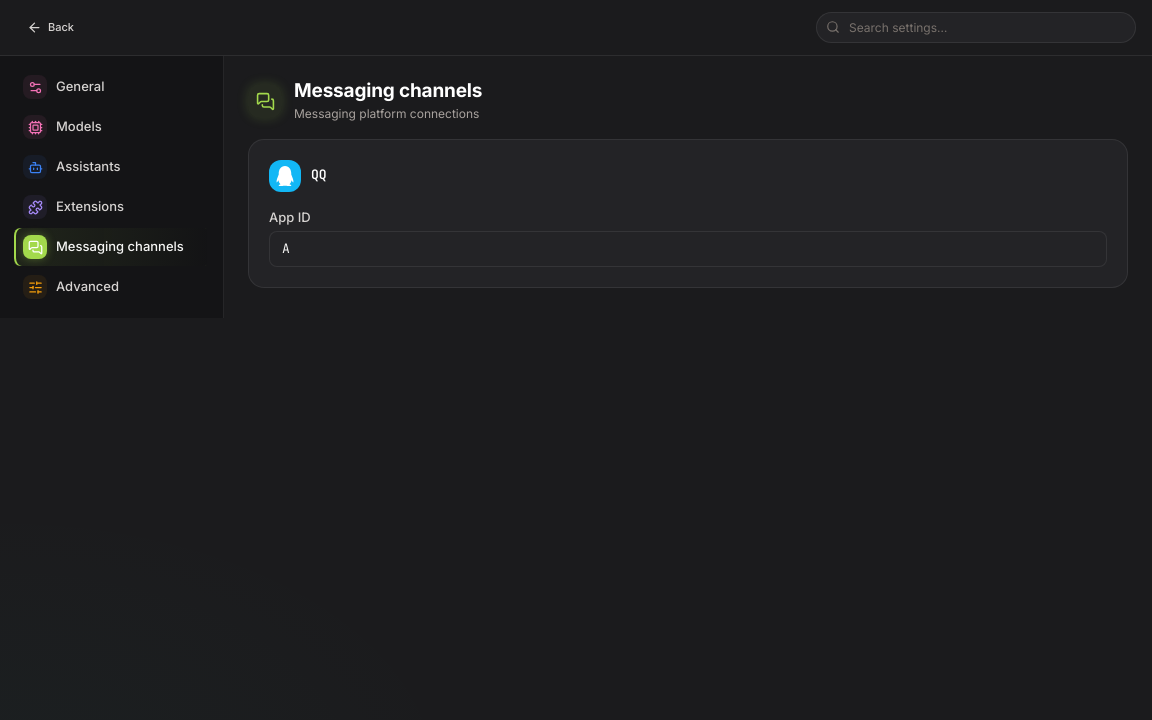
Test: SettingsPage dirty guard › leaving a dirty editor prompts; discard proceeds and reverts the field
This screenshot has width=1152, height=720.
Note: Start on the im (channels) section so the persisted editor mounts.
Step 1. Replace the text in the field showing "A" with "B" → (688, 249), box [269,231,1107,267]
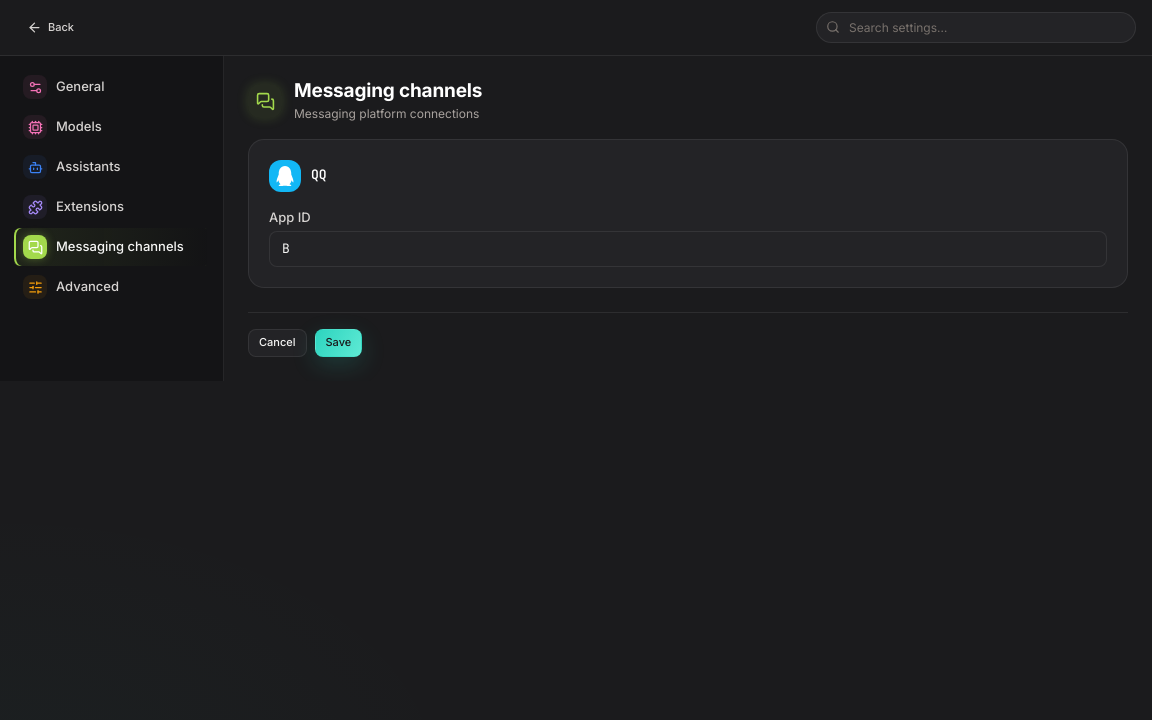
Step 2. Click the button "Back" → (50, 28), box [16,14,85,42]
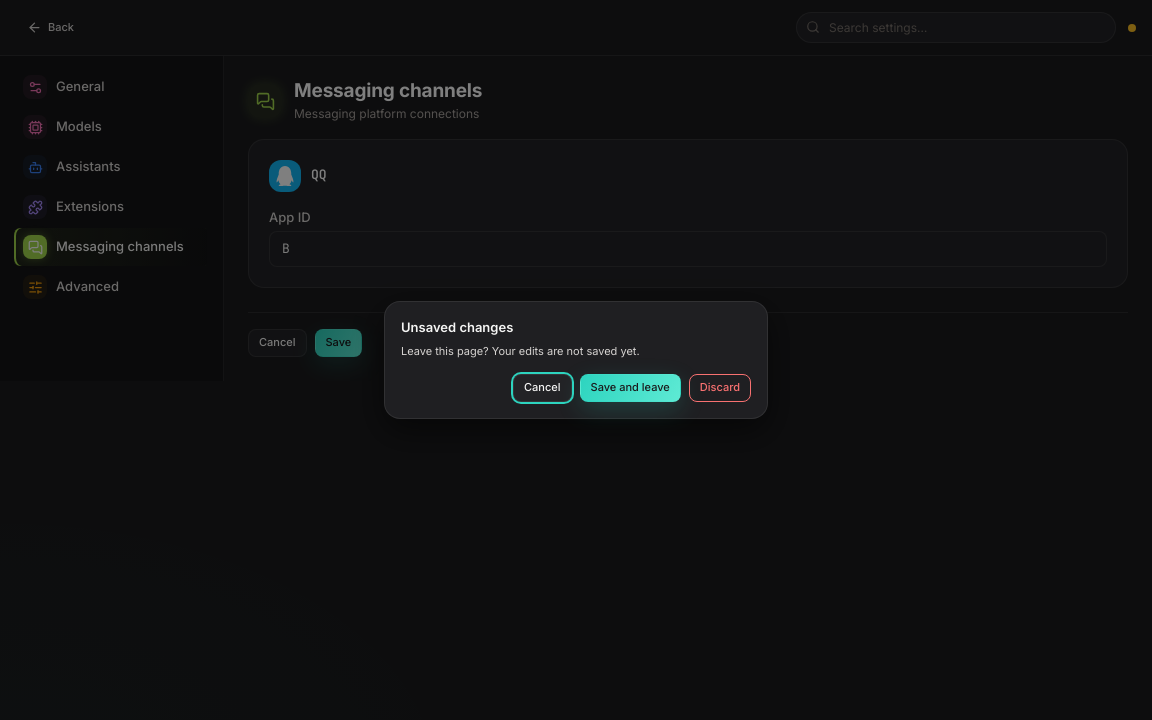
Expected: the dialog is shown
Step 3. Click the button "Discard" → (720, 388), box [689,374,751,402]
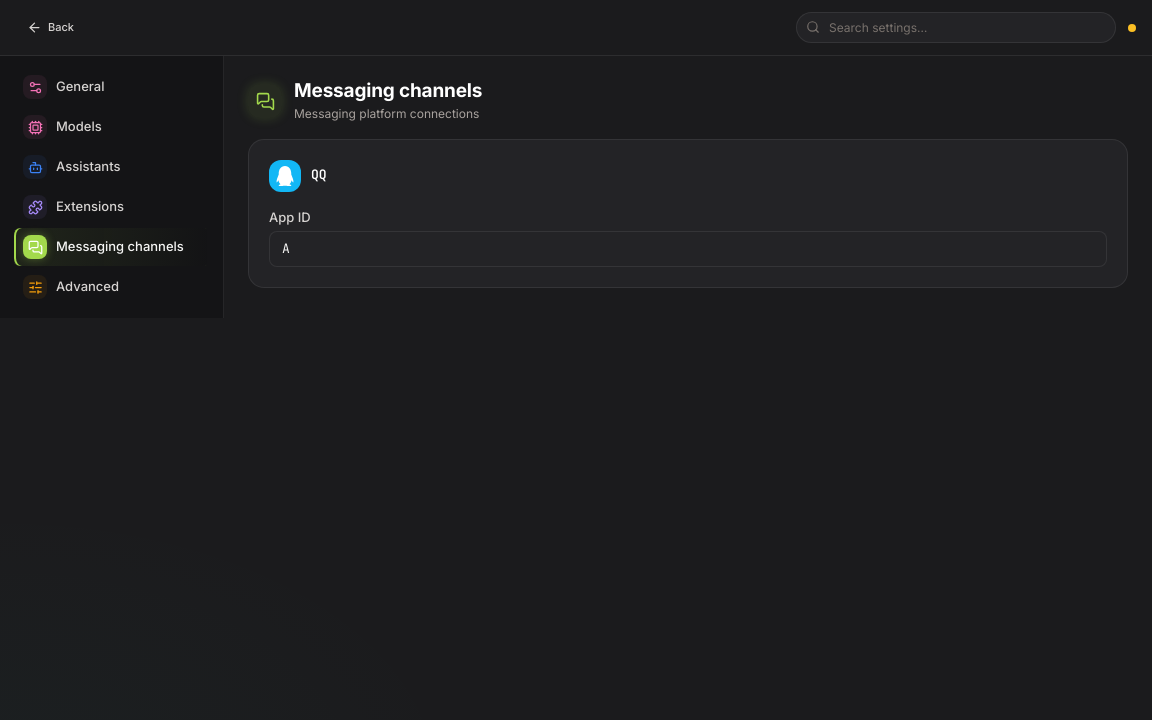
Expected: the dialog is gone
